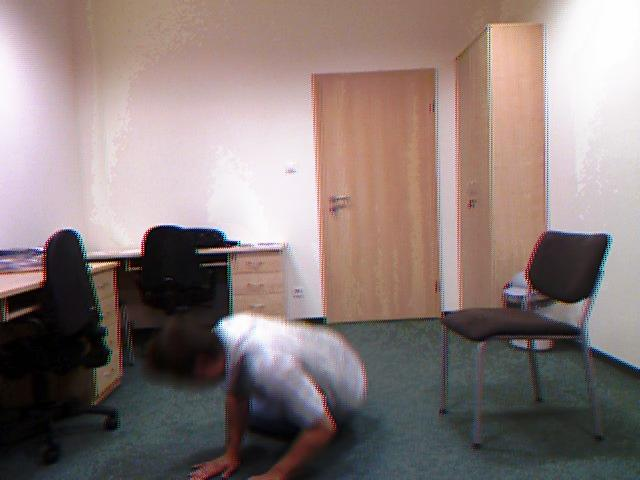fall: (144, 305, 379, 480)
